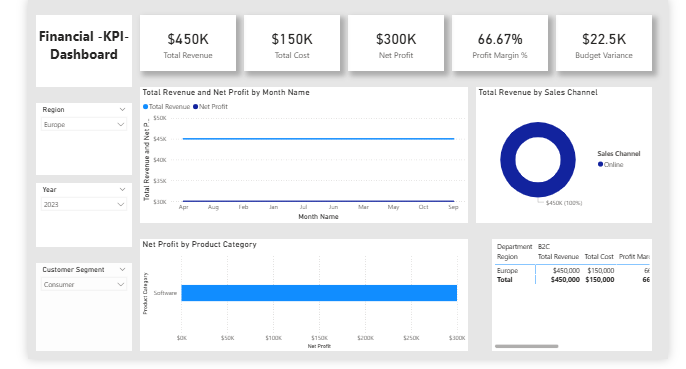

The dashboard page shown, as its layout file describes it:
{"tool":"powerbi","page":{"name":"Page 1","canvas":[1280,720],"ordinal":0},"visuals":[{"type":"card","fields":{"Values":["_Key Measures.Budget Variance"]},"box":[1056,32,192,112],"z":0},{"type":"card","fields":{"Values":["_Key Measures.Profit Margin %"]},"box":[848,32,192,112],"z":1000},{"type":"card","fields":{"Values":["_Key Measures.Net Profit"]},"box":[640,32,192,112],"z":2000},{"type":"card","fields":{"Values":["_Key Measures.Total Cost"]},"box":[432,32,192,112],"z":3000},{"type":"card","fields":{"Values":["_Key Measures.Total Revenue"]},"box":[224,32,192,112],"z":4000},{"type":"lineChart","fields":{"Y":["_Key Measures.Total Revenue","_Key Measures.Net Profit"],"Category":["DateTable.Month Name"]},"box":[224,176,656,272],"z":5000},{"type":"donutChart","fields":{"Category":["FinancialData.Sales Channel"],"Y":["_Key Measures.Total Revenue"]},"box":[896,176,352,272],"z":6000},{"type":"clusteredBarChart","fields":{"Category":["FinancialData.Product Category"],"Y":["_Key Measures.Net Profit"]},"box":[224,480,656,224],"z":7000},{"type":"pivotTable","fields":{"Rows":["FinancialData.Region"],"Values":["_Key Measures.Total Revenue","_Key Measures.Total Cost","_Key Measures.Profit Margin %"],"Columns":["FinancialData.Department"]},"box":[928,480,320,224],"z":8000},{"type":"slicer","fields":{"Values":["FinancialData.Region"]},"box":[16,208,192,144],"z":9000},{"type":"slicer","fields":{"Values":["DateTable.Year"]},"box":[16,368,192,128],"z":10000},{"type":"slicer","fields":{"Values":["FinancialData.Customer Segment"]},"box":[16,528,192,176],"z":11000},{"type":"textbox","box":[16,32,192,144],"z":11001}]}

Visuals, with their boxes on the page's 1280x720 design canvas (x1, y1, x2, y2). These are canvas units, not pixel positions in the 686x369 screenshot, which may show the page scaled, cropped or inside an application window:
card - _Key Measures.Budget Variance: BBox(1056, 32, 1248, 144)
card - _Key Measures.Profit Margin %: BBox(848, 32, 1040, 144)
card - _Key Measures.Net Profit: BBox(640, 32, 832, 144)
card - _Key Measures.Total Cost: BBox(432, 32, 624, 144)
card - _Key Measures.Total Revenue: BBox(224, 32, 416, 144)
lineChart - _Key Measures.Total Revenue x _Key Measures.Net Profit: BBox(224, 176, 880, 448)
donutChart - FinancialData.Sales Channel x _Key Measures.Total Revenue: BBox(896, 176, 1248, 448)
clusteredBarChart - FinancialData.Product Category x _Key Measures.Net Profit: BBox(224, 480, 880, 704)
pivotTable - FinancialData.Region x _Key Measures.Total Revenue: BBox(928, 480, 1248, 704)
slicer - FinancialData.Region: BBox(16, 208, 208, 352)
slicer - DateTable.Year: BBox(16, 368, 208, 496)
slicer - FinancialData.Customer Segment: BBox(16, 528, 208, 704)
textbox: BBox(16, 32, 208, 176)
